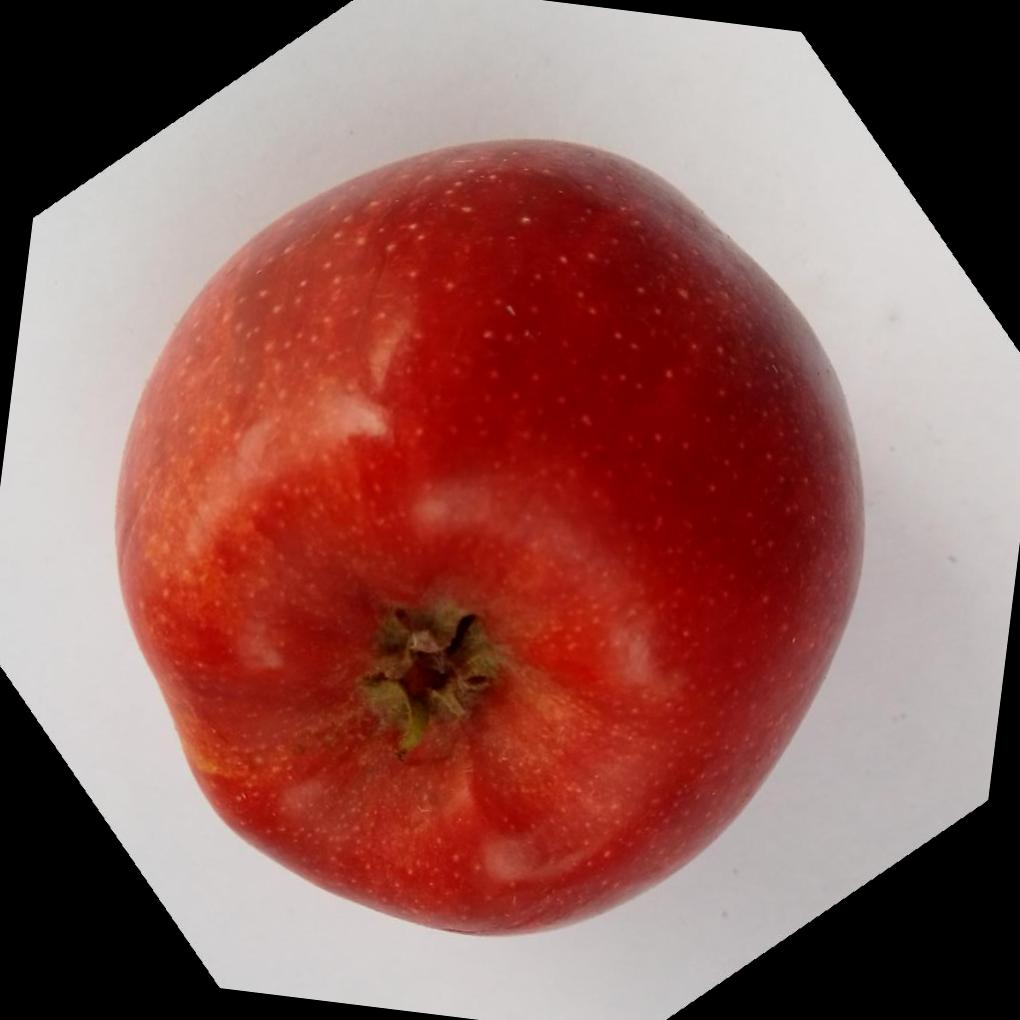FreshGuava: (109, 134, 863, 938)
